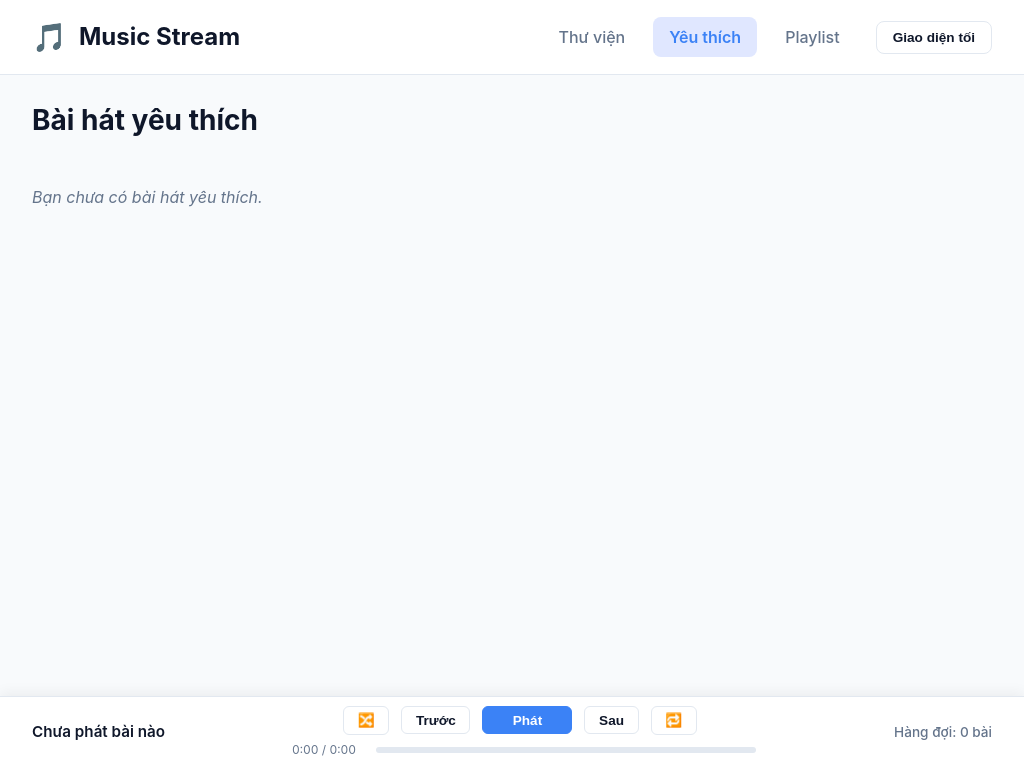
Test: Khung ứng dụng và Routing › chuyển hướng sang Playlist và tô sáng mục Playlist
Click the link "Playlist" at (812, 37), box [785,27,840,47]
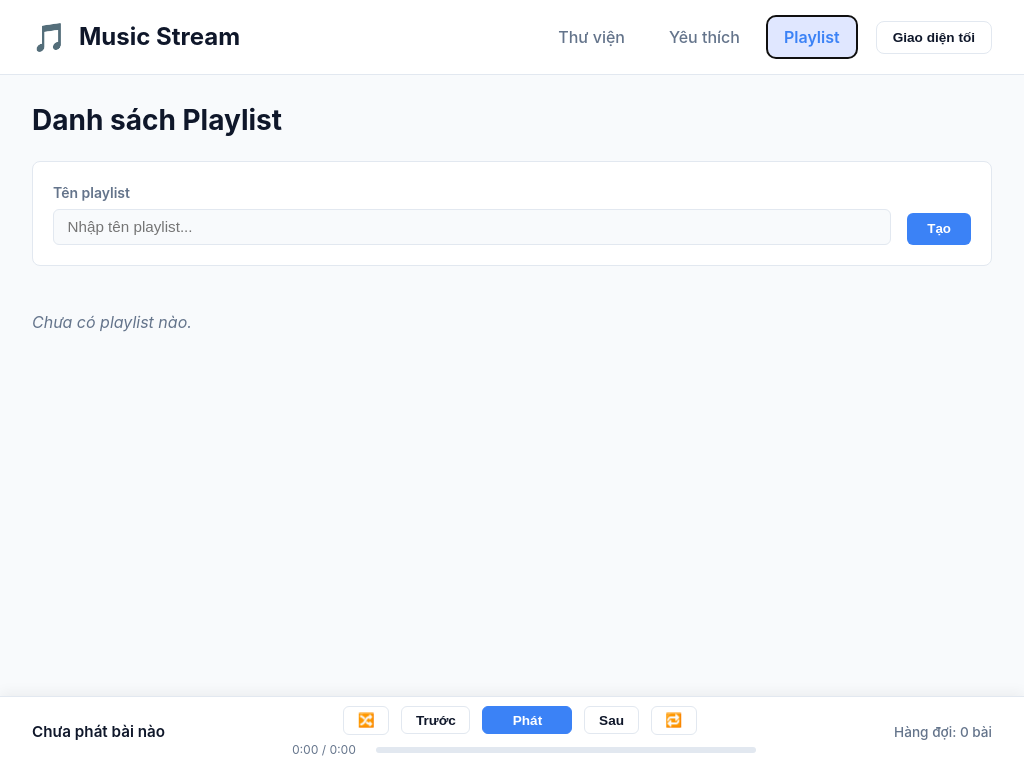
Check: the heading "Danh sách Playlist" is shown, box [32,103,282,137]
